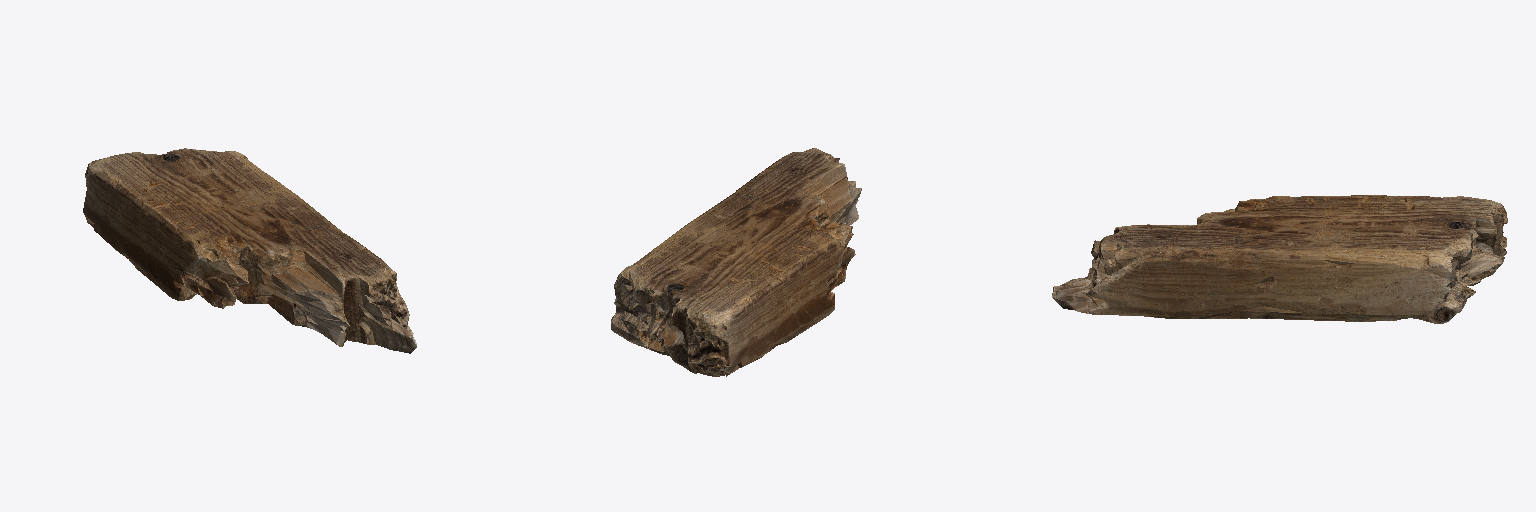
3 views of the same model, side by side, from view 1: azimuth 30°, elevation 25°; view 2: azimuth 150°, elevation 25°; view 3: azimuth 270°, elevation 25° (orthographic).
Parts seen in each view (by area): view 1: Object_TexMap; view 2: Object_TexMap; view 3: Object_TexMap.
Boxes of the visible parts, x1,y1,x2,y2 form: Object_TexMap: [83, 148, 416, 353]; Object_TexMap: [611, 148, 861, 376]; Object_TexMap: [1052, 195, 1507, 323].
Size of the model in its own units: 0.917 by 0.4238 by 2.5.
Materials: 1 (1 with a texture image).